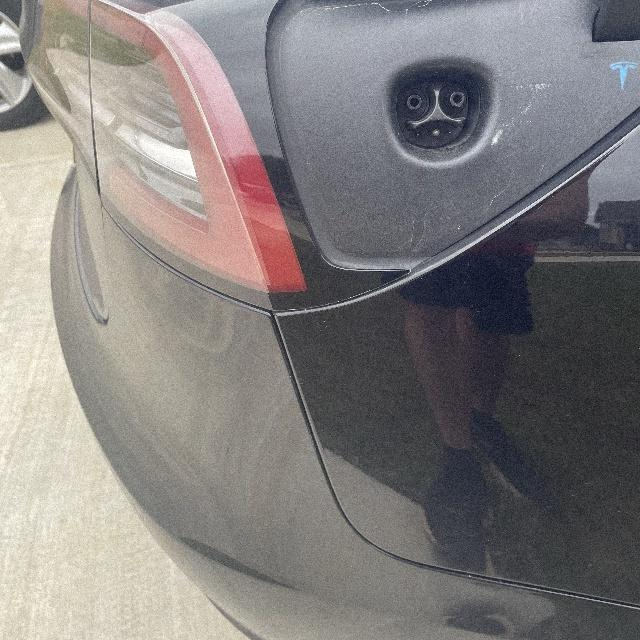Tesla Model-S-: (379, 56, 497, 178)
